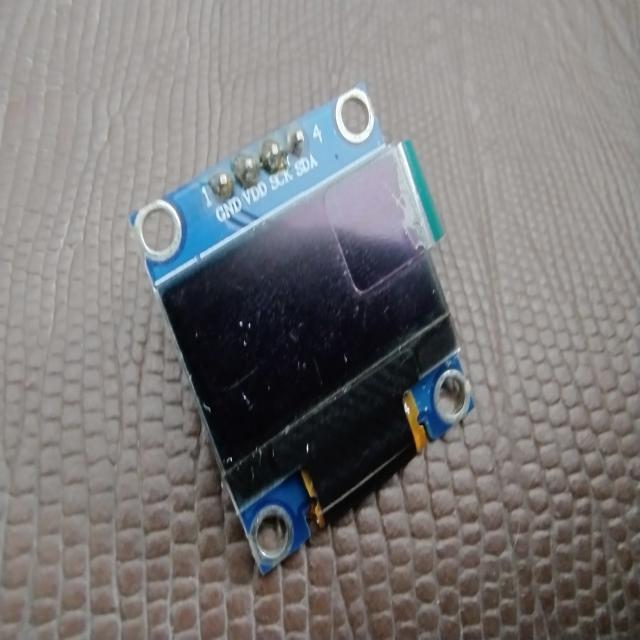oled: (122, 75, 482, 576)
